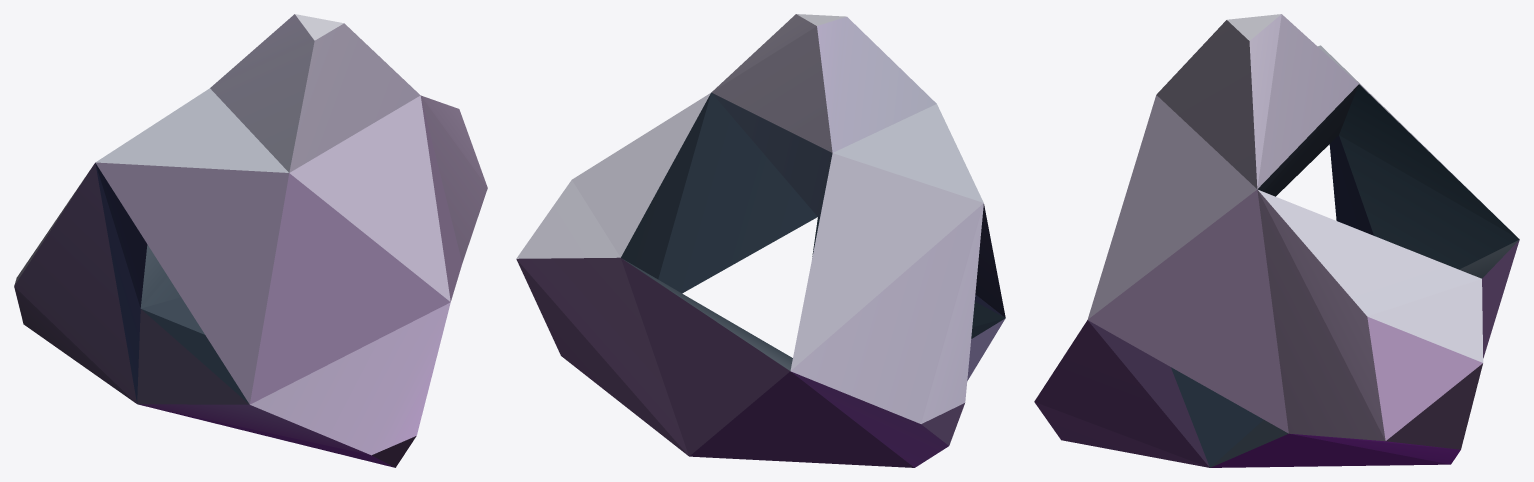
File: white_elephant_superfurniture.FBX
3 views of the same model, side by side, from view 1: azimuth 30°, elevation 25°; view 2: azimuth 150°, elevation 25°; view 3: azimuth 270°, elevation 25° (orthographic). The views are drawn at different scales.
Parts seen in each view (by area): view 1: white elephant superfurniture; view 2: white elephant superfurniture; view 3: white elephant superfurniture.
Part boxes in pixels (<box>): white elephant superfurniture: <box>14,14,487,467</box>; white elephant superfurniture: <box>516,14,1005,467</box>; white elephant superfurniture: <box>1034,14,1519,467</box>.
Size of the model in its own units: 4.15 by 3.34 by 3.46.
